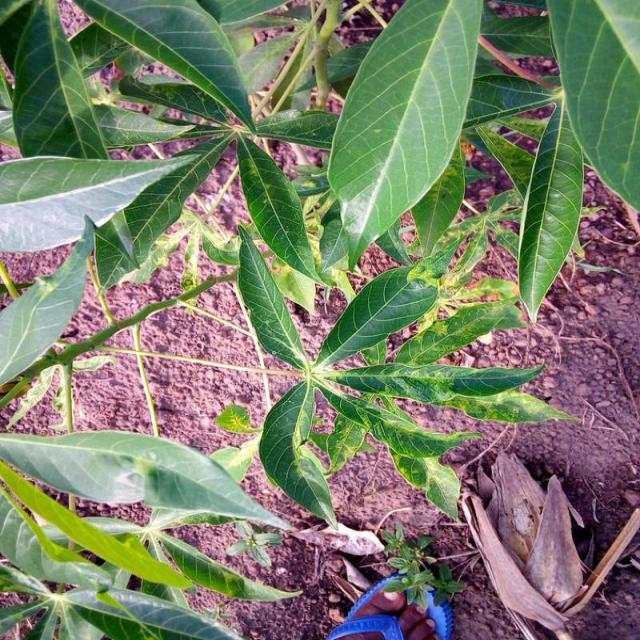Mosaico: (240, 247, 529, 501), (384, 210, 560, 322)
